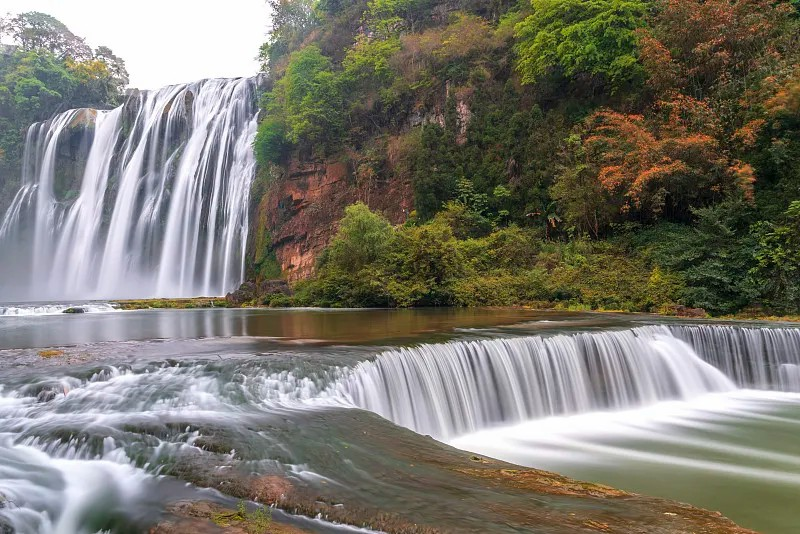Huangguoshu: (1, 79, 256, 299)
